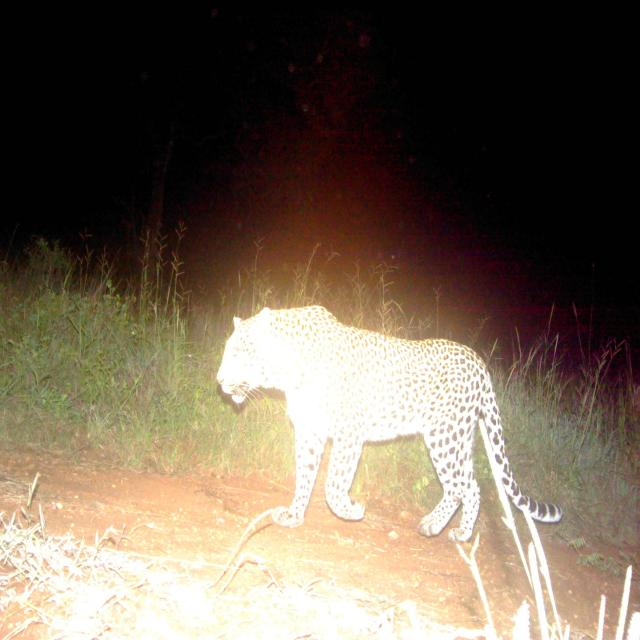Leopard: (199, 300, 581, 562)
